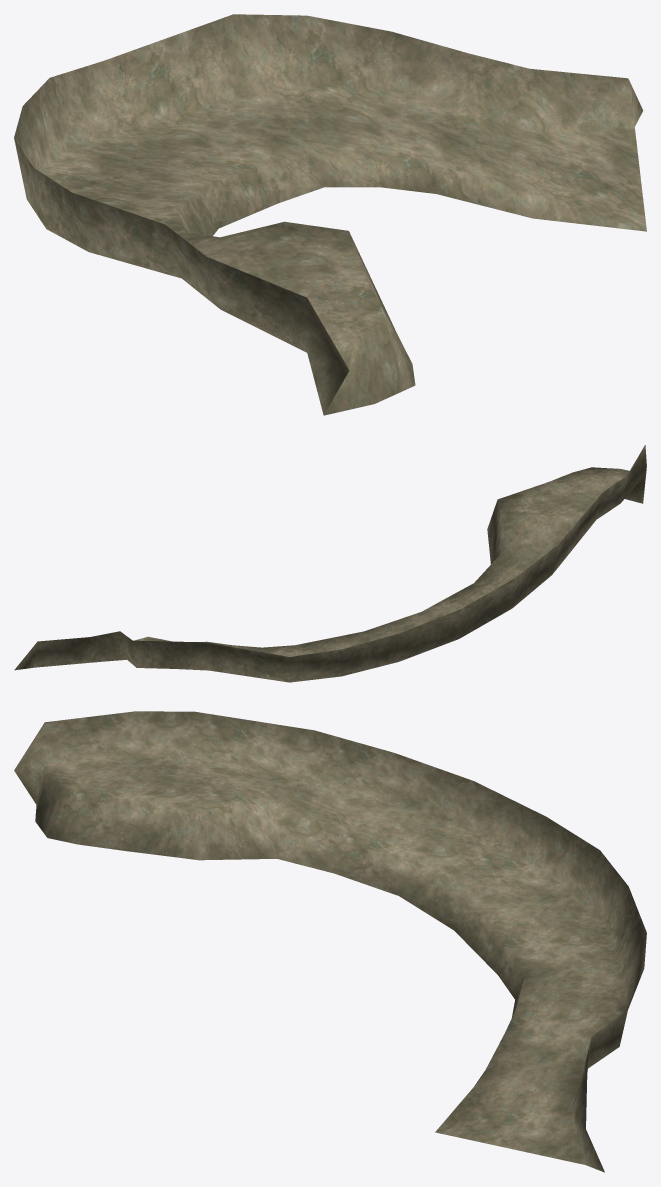
Rendered from EKH_GROTTO_PS_GR_OBJECT05.fbx.
The picture shows the model from 3 angles, top to bottom: view 1: azimuth 30°, elevation 25°; view 2: azimuth 150°, elevation 25°; view 3: azimuth 270°, elevation 25°; orthographic projection. The views are drawn at different scales.
Parts seen in each view (by area): view 1: EKH_GROTTO_PS_GR_OBJECT05; view 2: EKH_GROTTO_PS_GR_OBJECT05; view 3: EKH_GROTTO_PS_GR_OBJECT05.
Boxes of the visible parts, bbox=[...] form: EKH_GROTTO_PS_GR_OBJECT05: bbox=[14, 14, 646, 415]; EKH_GROTTO_PS_GR_OBJECT05: bbox=[14, 445, 646, 682]; EKH_GROTTO_PS_GR_OBJECT05: bbox=[14, 711, 646, 1172].
Bounding box in the file's own units: 91623 × 33023 × 93859.
Materials: 1 (1 with a texture image).
